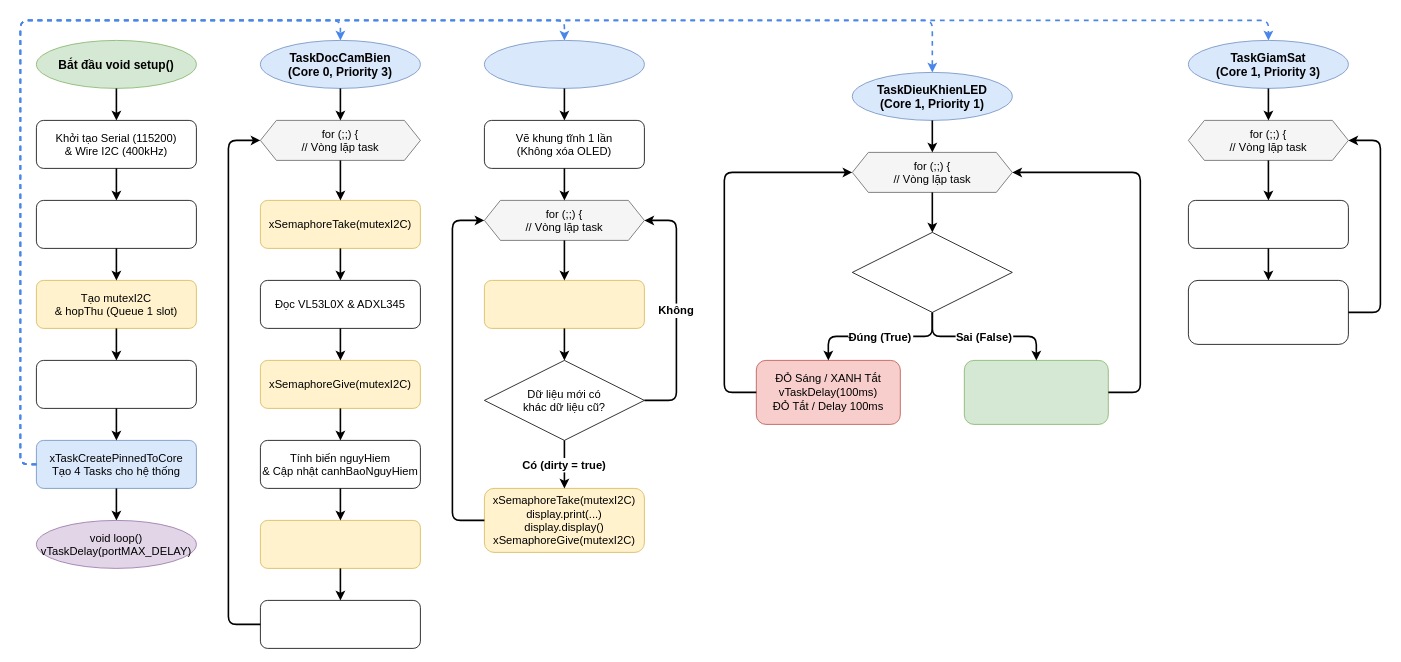
Some shapes in this 1401 by 662 pixel diagram are drawn without their labels. The box of each missing label's shape, as (x1, y1, x2, y2) in pixels:
if (canhBaoNguyHiem): (852, 232, 1012, 312)
Khởi tạo Sensors OLED, VL53L0X, ADXL345: (36, 360, 196, 408)
pinMode(LED_XANH) pinMode(LED_DO): (36, 200, 196, 248)
Serial.printf(Heap) Serial.printf(Trạng thái) Serial.printf(Stack): (1188, 280, 1348, 344)
TaskHienThiOLED (Core 1, Priority 2): (484, 40, 644, 88)
vTaskDelay(25ms): (260, 600, 420, 648)
vTaskDelay(3000ms): (1188, 200, 1348, 248)
XANH Sáng / ĐỎ Tắt vTaskDelay(50ms): (964, 360, 1108, 424)
xQueueOverwrite(hopThu): (260, 520, 420, 568)
xQueueReceive(200ms): (484, 280, 644, 328)
